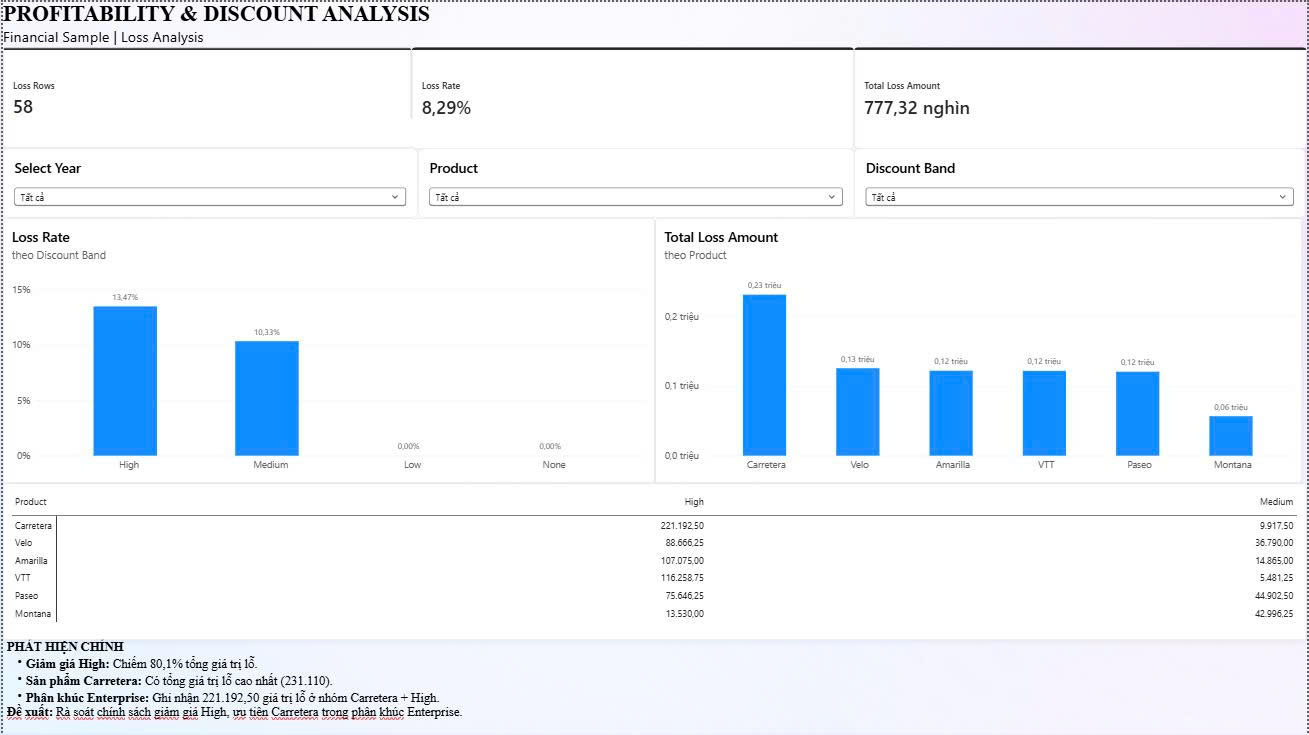

This screenshot's page, from the dashboard's own definition file:
{"tool":"powerbi","page":{"name":"Profitability & Discounts","canvas":[1920,1080],"ordinal":1},"visuals":[{"type":"textbox","box":[0,0,691.8,67.2],"z":0},{"type":"cardVisual","fields":{"Data":["financials.Loss Rows"]},"box":[0,68.1,601,148.9],"z":1000},{"type":"cardVisual","fields":{"Data":["financials.Total Loss Amount"]},"box":[1252.8,68.1,666.4,150.7],"z":2000},{"type":"cardVisual","fields":{"Data":["financials.Loss Rate"]},"box":[601.8,68.1,651.9,150.7],"z":3000},{"type":"clusteredColumnChart","fields":{"Category":["financials.Discount Band"],"Y":["financials.Loss Rate"]},"box":[0,319.4,960.2,390],"z":4000},{"type":"clusteredColumnChart","fields":{"Category":["financials.Product"],"Y":["financials.Total Loss Amount"]},"box":[960.2,319.4,952.4,390],"z":5000},{"type":"pivotTable","fields":{"Columns":["financials.Discount Band"],"Rows":["financials.Product"],"Values":["financials.Total Loss Amount"]},"box":[0,710,1919.2,230.6],"z":6000},{"type":"listSlicer","title":"Select Year","fields":{"Values":["financials.Date.Variation.Phân cấp ngày tháng.Năm"]},"box":[0,217.5,610.7,101.8],"z":7000},{"type":"listSlicer","fields":{"Values":["financials.Discount Band"]},"box":[1254.1,217.5,664.3,101.9],"z":8000},{"type":"listSlicer","fields":{"Values":["financials.Product"]},"box":[611.4,217.5,642.7,101.9],"z":9000},{"type":"textbox","box":[5.4,940.6,1906.5,139.8],"z":10000}]}

Visuals, with their boxes in screenshot pixels (x1, y1, x2, y2), scaled from the page's 1920x1080 canvas onto the 1309x735 screenshot:
textbox: pyautogui.locateOnScreen(0, 0, 472, 46)
cardVisual - financials.Loss Rows: pyautogui.locateOnScreen(0, 46, 410, 148)
cardVisual - financials.Total Loss Amount: pyautogui.locateOnScreen(854, 46, 1308, 149)
cardVisual - financials.Loss Rate: pyautogui.locateOnScreen(410, 46, 855, 149)
clusteredColumnChart - financials.Discount Band x financials.Loss Rate: pyautogui.locateOnScreen(0, 217, 655, 483)
clusteredColumnChart - financials.Product x financials.Total Loss Amount: pyautogui.locateOnScreen(655, 217, 1304, 483)
pivotTable - financials.Discount Band x financials.Product: pyautogui.locateOnScreen(0, 483, 1308, 640)
"Select Year" listSlicer: pyautogui.locateOnScreen(0, 148, 416, 217)
listSlicer - financials.Discount Band: pyautogui.locateOnScreen(855, 148, 1308, 217)
listSlicer - financials.Product: pyautogui.locateOnScreen(417, 148, 855, 217)
textbox: pyautogui.locateOnScreen(4, 640, 1303, 734)
